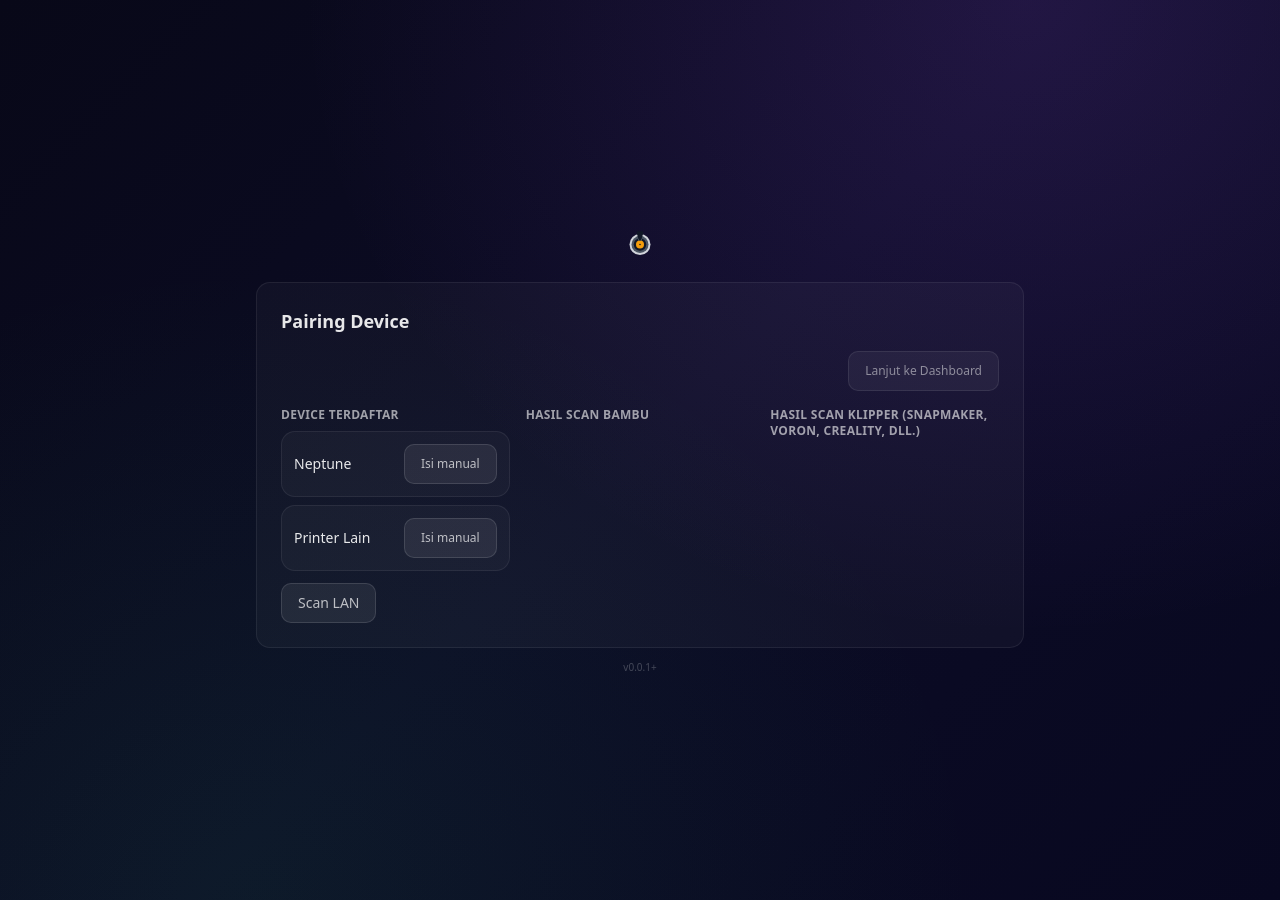
Test: PairingScreen › hasil scan Bambu yang namanya cocok dengan label device -> device itu jadi pilihan default dropdown + opsinya diberi penanda rekomendasi
This screenshot has width=1280, height=900.
Click the button "Scan LAN": (329, 602) [281,582,376,622]
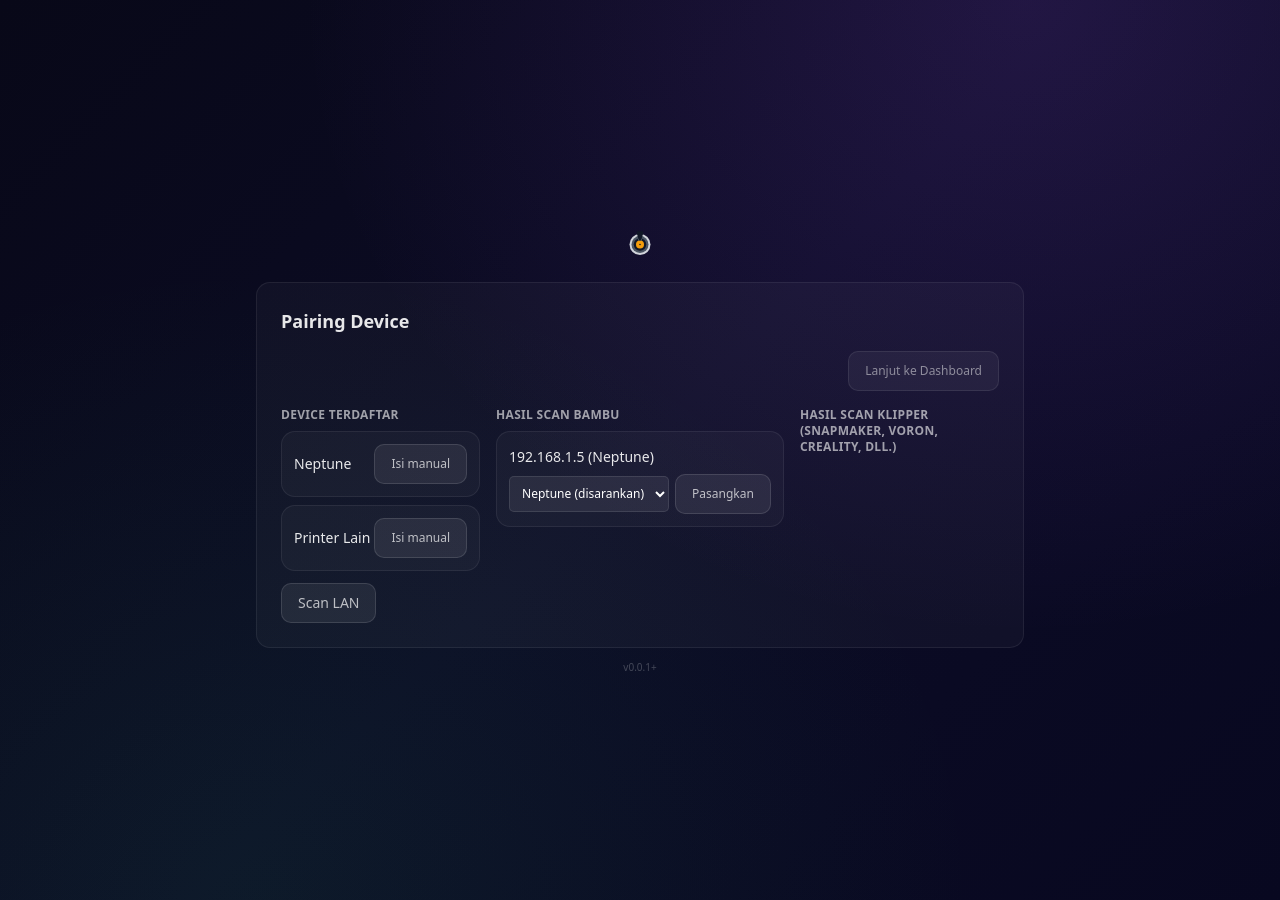
Check: the text "192.168.1.5 (Neptune)" is shown, box [509,446,654,466]
Check: the dropdown named "pilih device" shows "Neptune (disarankan)", box [509,476,669,512]
